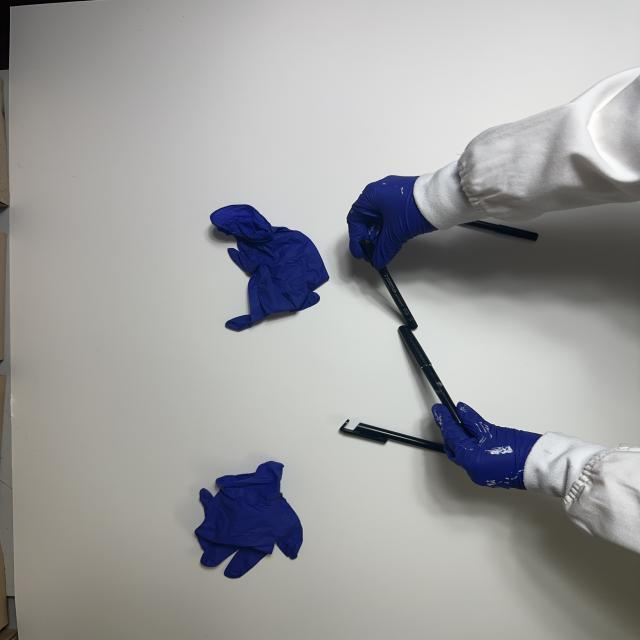gloves_contaminated: (432, 402, 541, 489), (347, 176, 435, 270)
